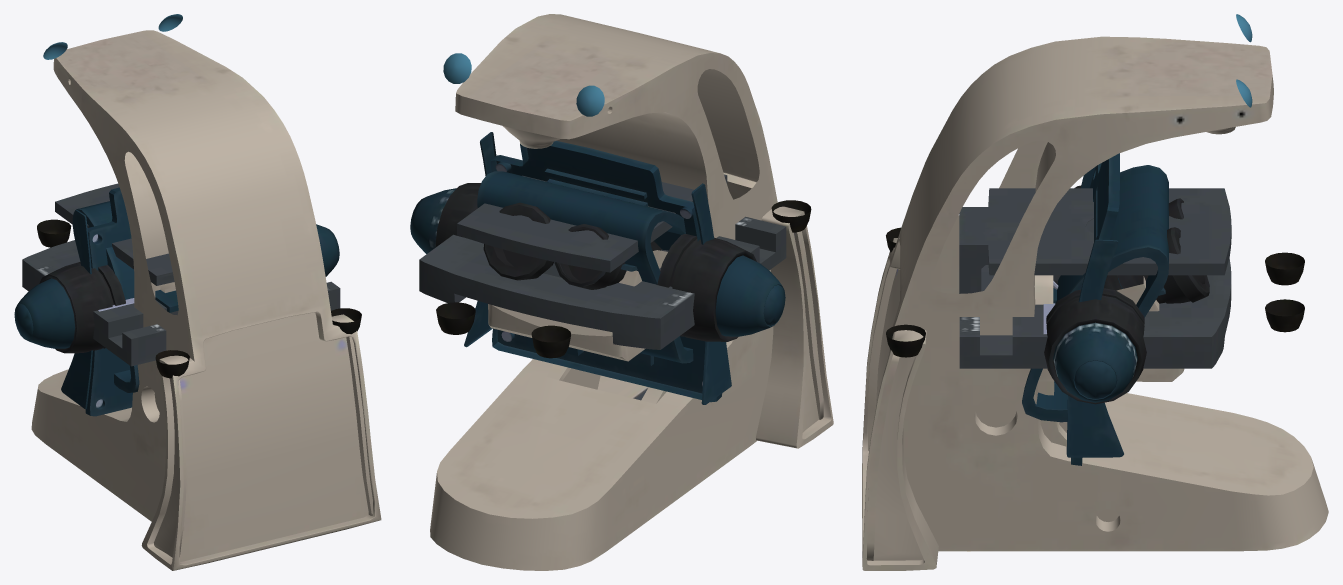
File: microscope.tablet.glb
The picture shows the model from 3 angles, left to right: view 1: azimuth 30°, elevation 25°; view 2: azimuth 150°, elevation 25°; view 3: azimuth 270°, elevation 25°; orthographic projection. The views are drawn at different scales.
Parts seen in each view (by area): view 1: MicroscopeBase_LowPoly__0, Platform_LowPoly__0, FineAdjustment_LowPoly__0, BackPanel_LowPoly__0, CoarseAdjustment_LowPoly__0, MechanicalStage_LowPoly__0, Handle_LowPoly__0, MicroscopeLegs_LowPoly__0, SidePanel_LowPoly__0, Lens_LowPoly__0; view 2: MicroscopeBase_LowPoly__0, Platform_LowPoly__0, BackPanel_LowPoly__0, Handle_LowPoly__0, MechanicalStage_LowPoly__0, CoarseAdjustment_LowPoly__0, FineAdjustment_LowPoly__0, SidePanel_LowPoly__0, BinocularRotationalHead_LowPoly__0, MicroscopeLegs_LowPoly__0, Binocular1_LowPoly__0, Binocular2_LowPoly__0 (+1 smaller); view 3: MicroscopeBase_LowPoly__0, MechanicalStage_LowPoly__0, Platform_LowPoly__0, Handle_LowPoly__0, FineAdjustment_LowPoly__0, CoarseAdjustment_LowPoly__0, SidePanel_LowPoly__0, MicroscopeLegs_LowPoly__0, Binocular1_LowPoly__0, BackPanel_LowPoly__0, BinocularRotationalHead_LowPoly__0.
Part boxes in pixels (x1,y1,x2,y2): MicroscopeBase_LowPoly__0: (31,30,381,570); Platform_LowPoly__0: (22,240,340,366); FineAdjustment_LowPoly__0: (14,224,339,348); BackPanel_LowPoly__0: (85,187,132,416); CoarseAdjustment_LowPoly__0: (39,262,125,353); MechanicalStage_LowPoly__0: (55,183,174,285); Handle_LowPoly__0: (72,201,139,392); MicroscopeLegs_LowPoly__0: (37,219,361,378); SidePanel_LowPoly__0: (61,209,92,408); Lens_LowPoly__0: (43,14,182,59); MicroscopeBase_LowPoly__0: (430,14,833,570); Platform_LowPoly__0: (419,216,786,349); BackPanel_LowPoly__0: (490,140,722,402); Handle_LowPoly__0: (477,171,693,363); MechanicalStage_LowPoly__0: (457,174,727,272); CoarseAdjustment_LowPoly__0: (435,183,756,341); FineAdjustment_LowPoly__0: (410,188,785,336); SidePanel_LowPoly__0: (464,132,731,404); BinocularRotationalHead_LowPoly__0: (488,250,667,361); MicroscopeLegs_LowPoly__0: (436,200,811,358); Binocular1_LowPoly__0: (483,202,553,280); Binocular2_LowPoly__0: (554,224,661,289); MicroscopeBase_LowPoly__0: (862,36,1328,570); MechanicalStage_LowPoly__0: (959,188,1231,293); Platform_LowPoly__0: (959,258,1231,368); Handle_LowPoly__0: (1022,165,1168,422); FineAdjustment_LowPoly__0: (1053,322,1137,402); CoarseAdjustment_LowPoly__0: (1044,185,1146,404); SidePanel_LowPoly__0: (1066,166,1123,457); MicroscopeLegs_LowPoly__0: (886,227,1304,357); Binocular1_LowPoly__0: (1104,227,1209,303); BackPanel_LowPoly__0: (1071,153,1119,465); BinocularRotationalHead_LowPoly__0: (1038,276,1184,381).
Bounding box in the file's own units: 997081 × 1274470 × 1098706.
1 material, 1 textured.
